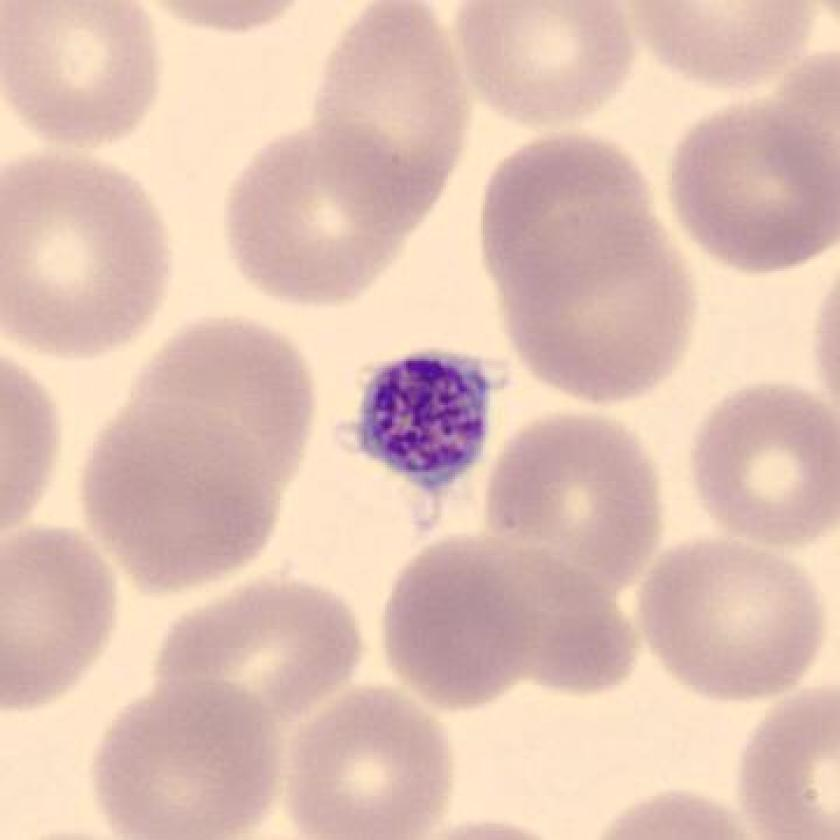platelets: (339, 337, 512, 506)
